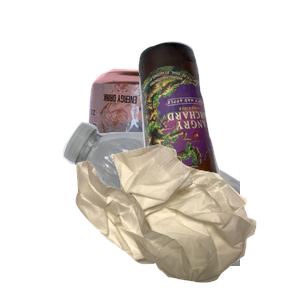glass: (136, 39, 300, 219)
metal: (82, 66, 270, 246)
plastic: (60, 120, 300, 300)
trash: (73, 142, 300, 300)
